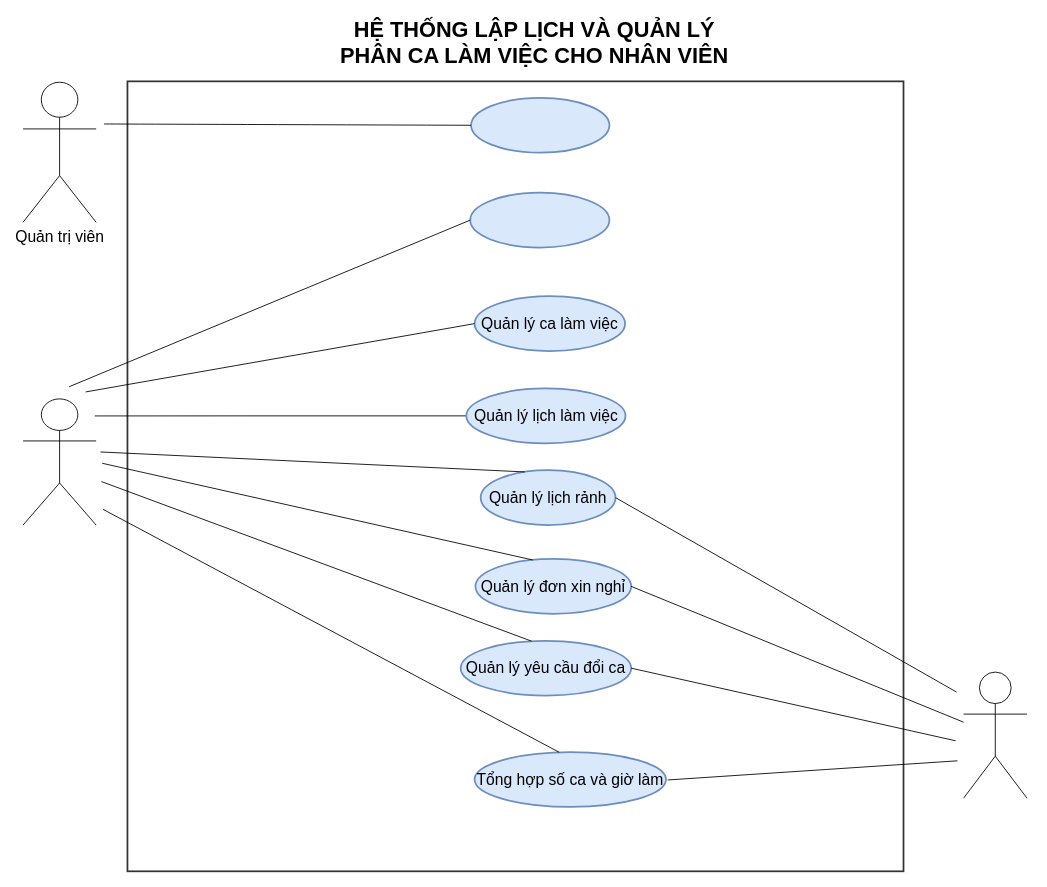
Image size: 1047x887. Some labels were removed from this diagram. The shapes that lost their labels are listed below. From the top down, each one's centre as x and y in pixels, then its label:
(540,125): Quản lý tài khoản
(539,219): Quản lý nhân viên
(59,461): Quản lý
(995,734): Nhân Viên
